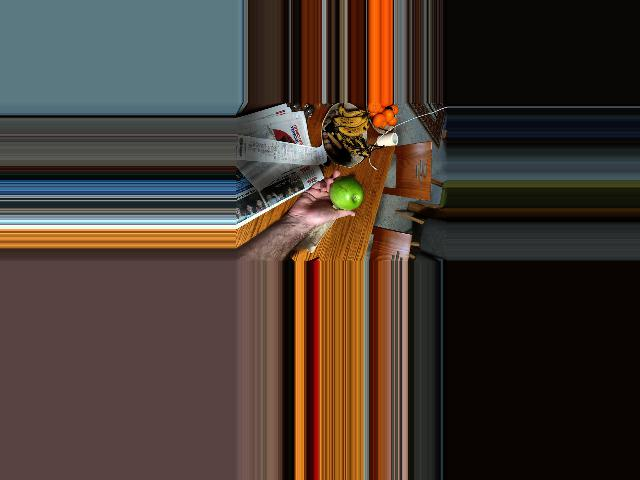apple: (324, 175, 367, 212)
